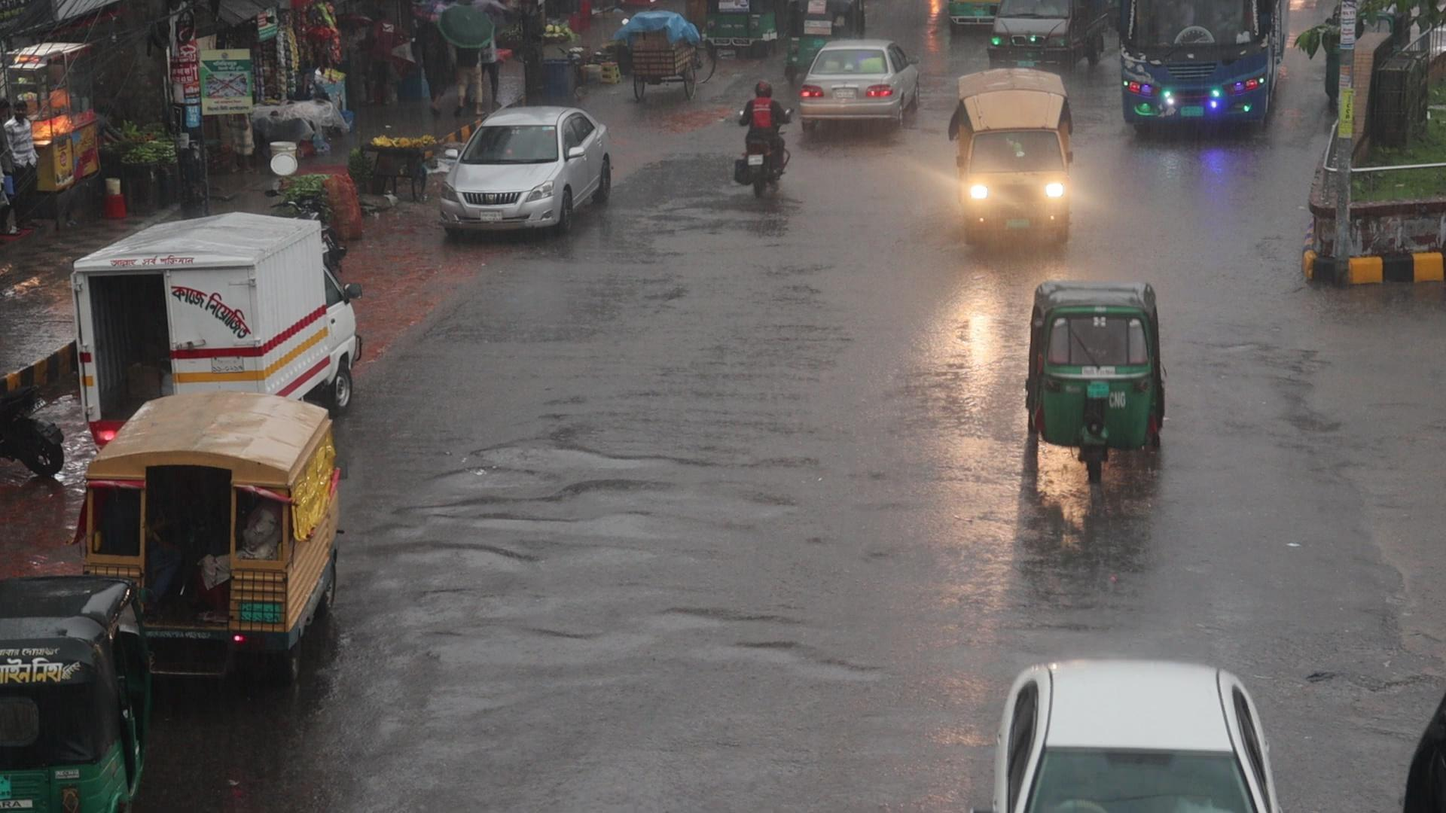Bike: (735, 79, 795, 198)
Bus: (1118, 0, 1287, 131)
Car: (798, 37, 923, 133)
Truck: (81, 387, 340, 638), (953, 64, 1076, 244)
